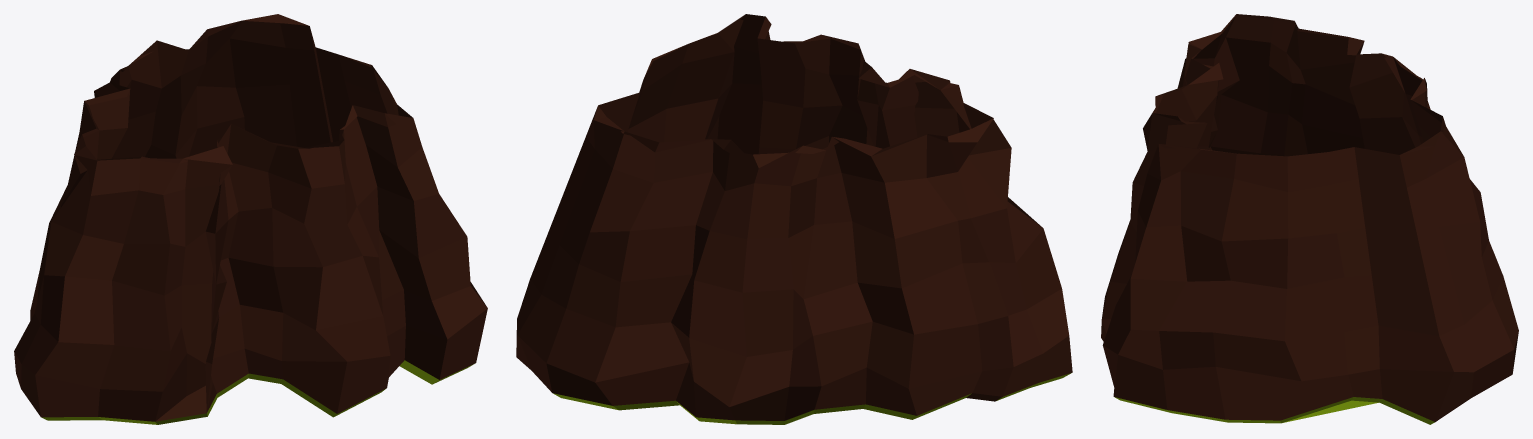
Rendered from cliff.obj.
The picture shows the model from 3 angles, left to right: view 1: azimuth 30°, elevation 25°; view 2: azimuth 150°, elevation 25°; view 3: azimuth 270°, elevation 25°; orthographic projection. The views are drawn at different scales.
Visible parts, largest first — view 1: Plane_Plane.001; view 2: Plane_Plane.001; view 3: Plane_Plane.001.
Boxes of the visible parts, x1,y1,x2,y2 form: Plane_Plane.001: [14, 14, 487, 424]; Plane_Plane.001: [516, 14, 1072, 424]; Plane_Plane.001: [1101, 14, 1518, 424].
Size of the model in its own units: 2.58 by 1.51 by 2.21.
